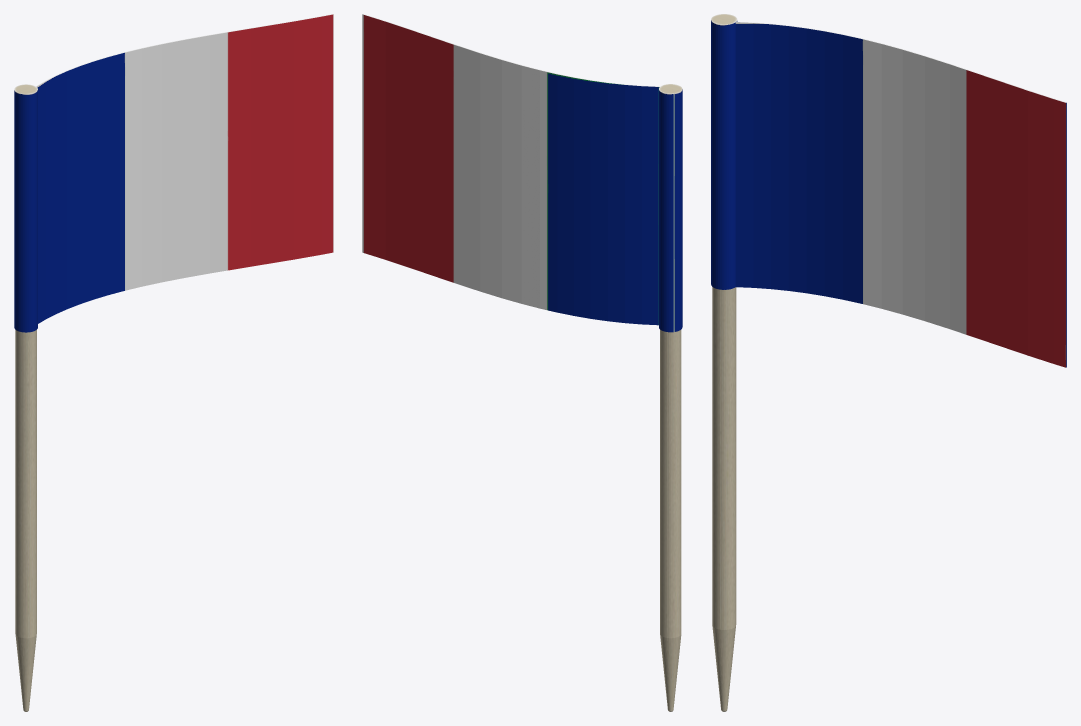
Rendered from FranceFlag.fbx.
3 views of the same model, side by side, from view 1: azimuth 30°, elevation 25°; view 2: azimuth 150°, elevation 25°; view 3: azimuth 330°, elevation 25° (orthographic). The views are drawn at different scales.
Parts seen in each view (by area): view 1: Toothpick flag; view 2: Toothpick flag; view 3: Toothpick flag.
Boxes of the visible parts, <box> form: Toothpick flag: <box>14,14,333,711</box>; Toothpick flag: <box>362,14,682,711</box>; Toothpick flag: <box>711,14,1066,711</box>.
Bounding box in the file's own units: 3.42 × 6.4 × 0.3623.
